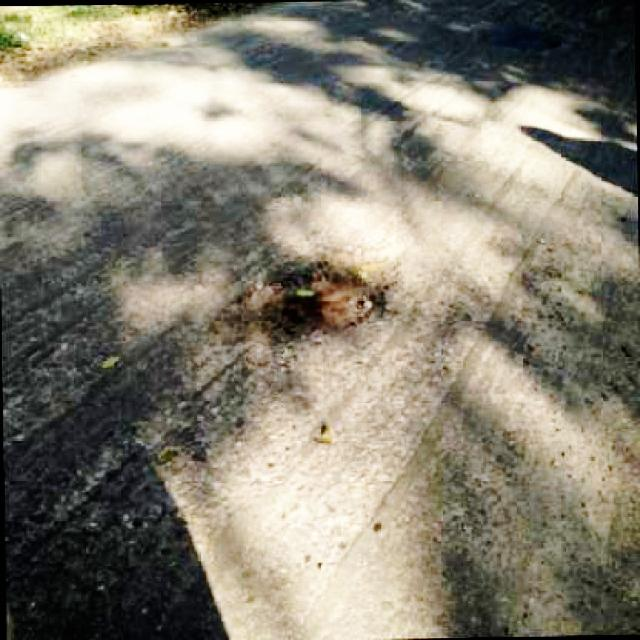pothole: (206, 236, 419, 350)
